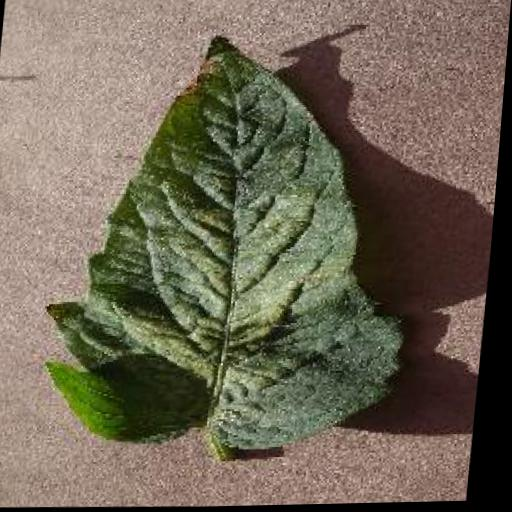Spider Mites: (37, 27, 436, 459)
